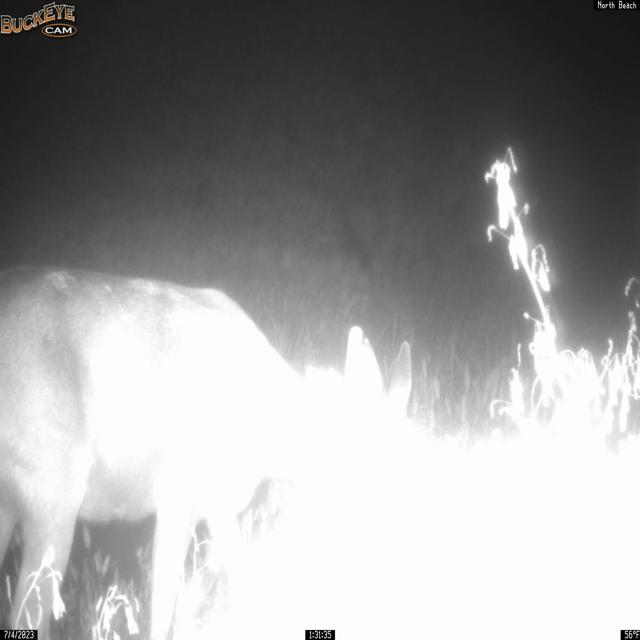deer: (0, 263, 419, 640)
